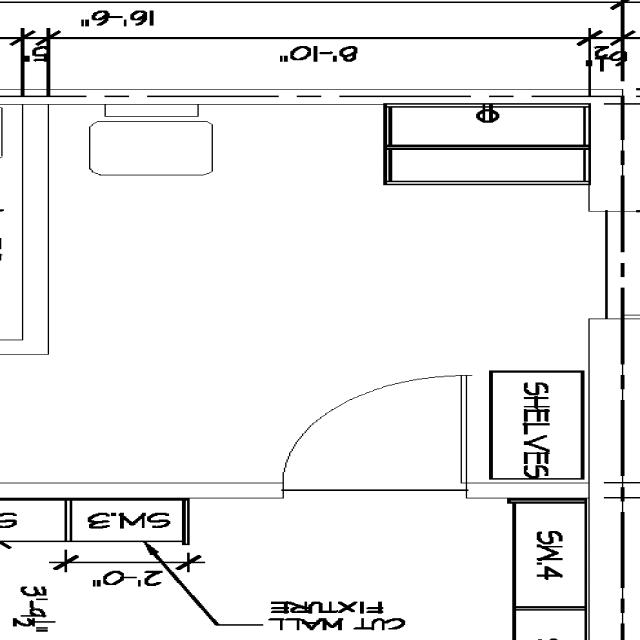Doors: (271, 370, 481, 503)
